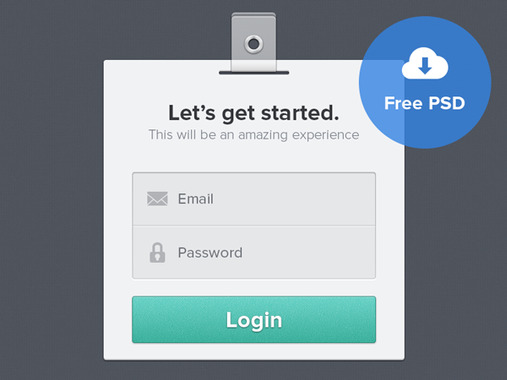button: (130, 294, 377, 345)
field: (131, 171, 380, 227), (131, 226, 378, 280)
